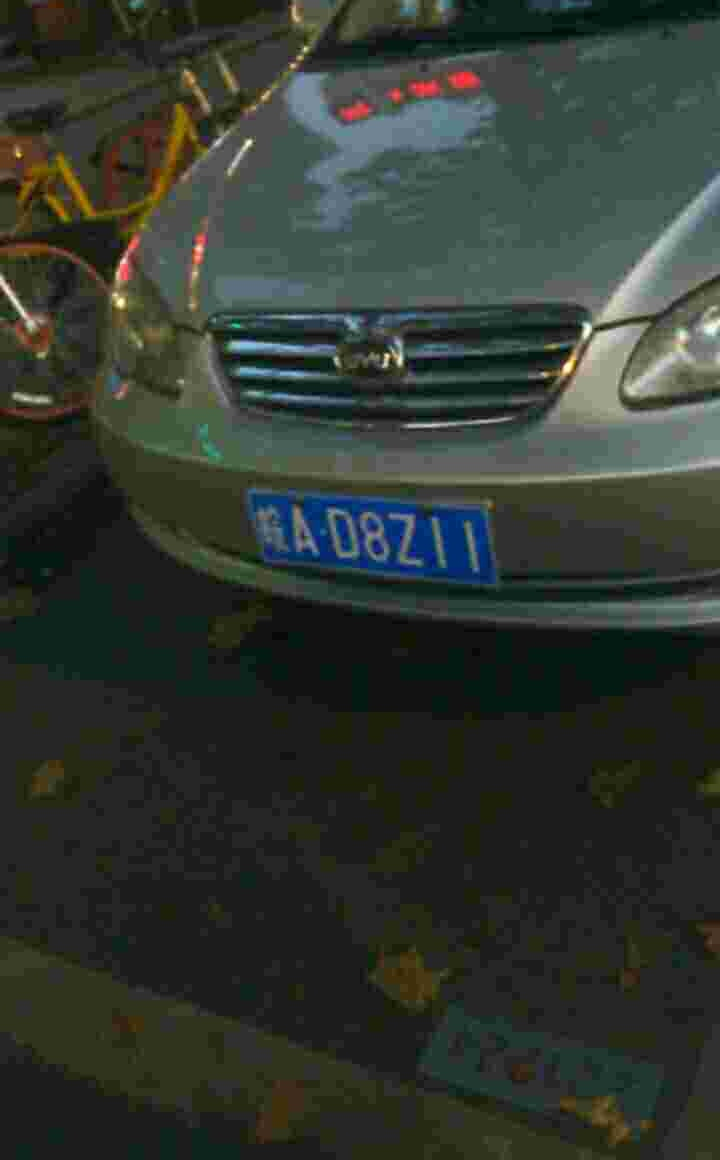license_plate: (246, 489, 507, 591)
